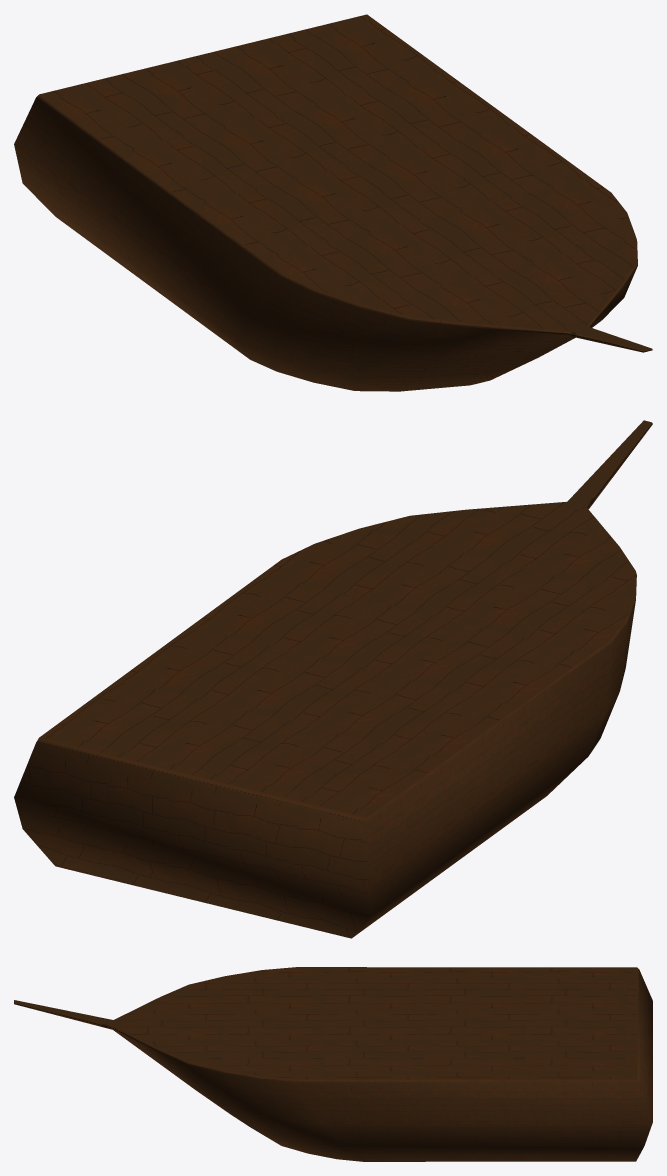
File: platform_v2.glb
3 views of the same model, one above another, from view 1: azimuth 30°, elevation 25°; view 2: azimuth 150°, elevation 25°; view 3: azimuth 270°, elevation 25° (orthographic). The views are drawn at different scales.
Parts seen in each view (by area): view 1: Cube; view 2: Cube; view 3: Cube.
Part boxes in pixels (x1,y1,x2,y2): Cube: [14, 14, 652, 391]; Cube: [14, 420, 652, 938]; Cube: [14, 967, 652, 1161].
Bounding box in the file's own units: 18.42 × 8.86 × 40.89.
Materials: 1 (1 with a texture image).
